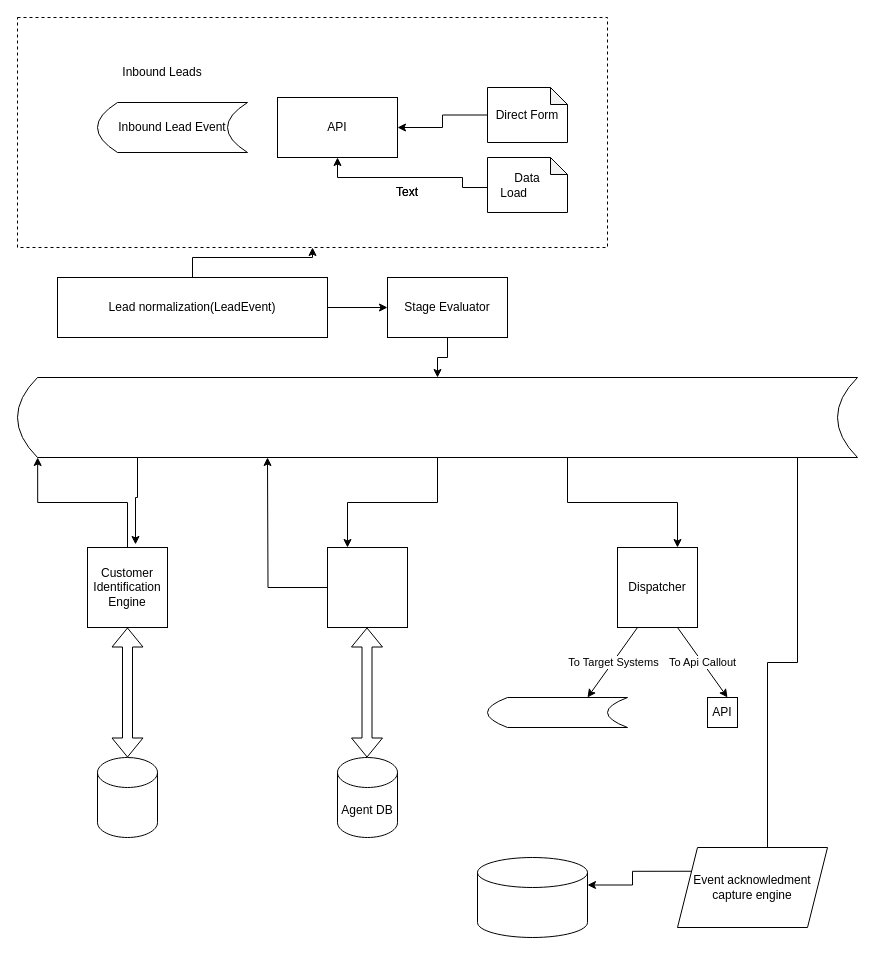
This 875x955 diagram has some shape labels left out. The box of each missing label's shape, as (x1, y1, x2, y2) in pixels:
Acknowledgment DB: (476, 856, 588, 938)
Agent Identification Engine: (326, 546, 408, 628)
Customer DB: (96, 756, 158, 838)
Event Bus (LeadEvent): (16, 376, 858, 458)
Event Outbound: (486, 696, 628, 728)
